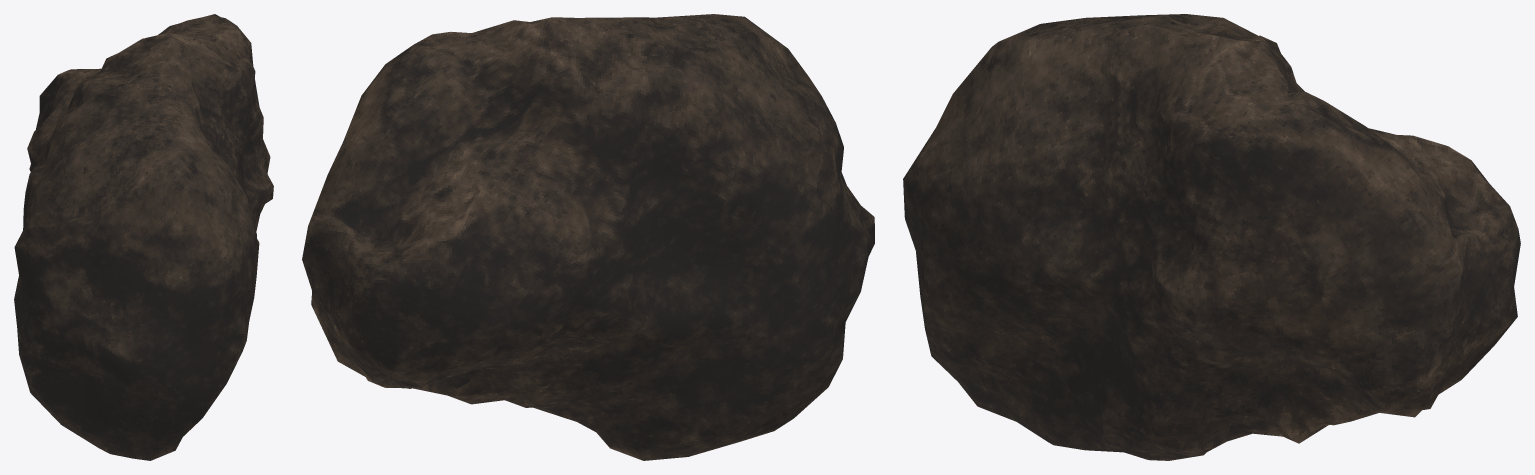
The model's file is SM_RP2_Rock_8m_4.002.glb.
3 views of the same model, side by side, from view 1: azimuth 30°, elevation 25°; view 2: azimuth 150°, elevation 25°; view 3: azimuth 270°, elevation 25° (orthographic). The views are drawn at different scales.
Visible parts, largest first — view 1: SM_RP2_Rock_8m_4.002; view 2: SM_RP2_Rock_8m_4.002; view 3: SM_RP2_Rock_8m_4.002.
Part boxes in pixels (box(x1,y1,x2,y2)): SM_RP2_Rock_8m_4.002: box(14, 14, 273, 460); SM_RP2_Rock_8m_4.002: box(302, 14, 874, 460); SM_RP2_Rock_8m_4.002: box(903, 14, 1520, 460).
Size of the model in its own units: 10.3 by 11 by 13.33.
1 material, 1 textured.
